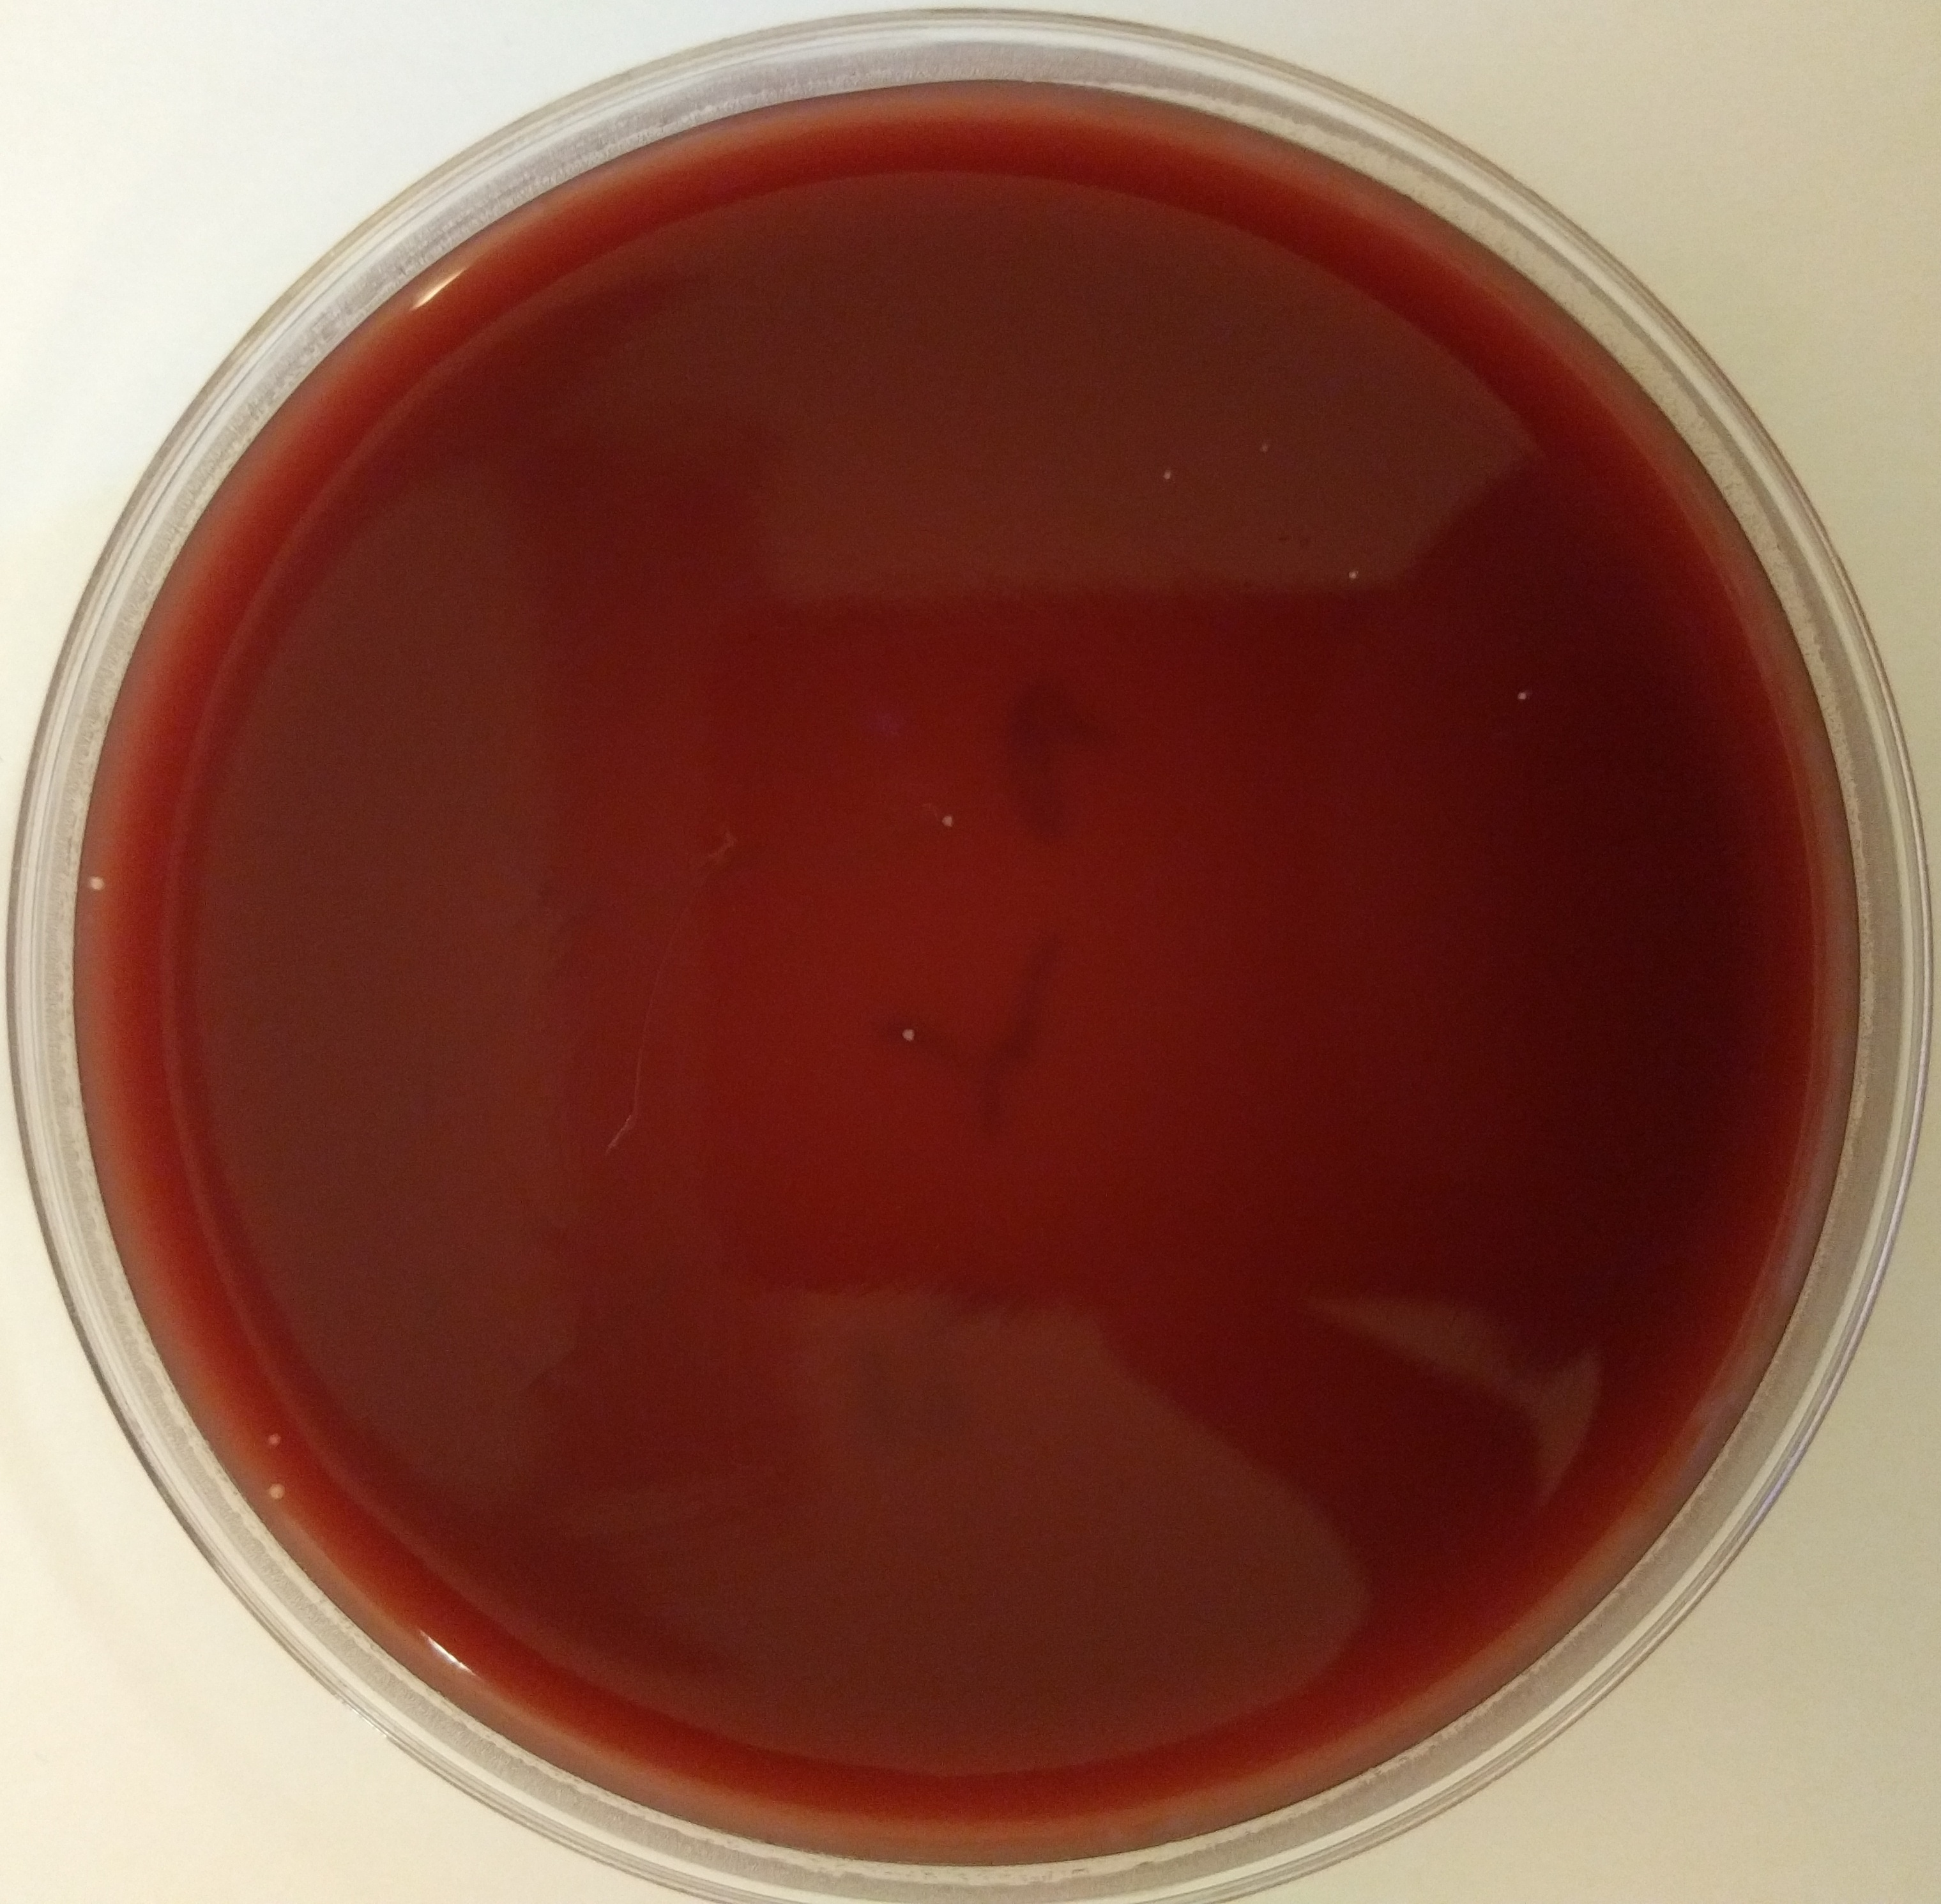sp09: (263, 1477, 289, 1505), (84, 868, 108, 898), (893, 1023, 924, 1046), (262, 1426, 288, 1451), (1156, 460, 1181, 485), (1341, 563, 1367, 586), (1250, 436, 1277, 457), (936, 813, 959, 833), (1512, 685, 1535, 704)
